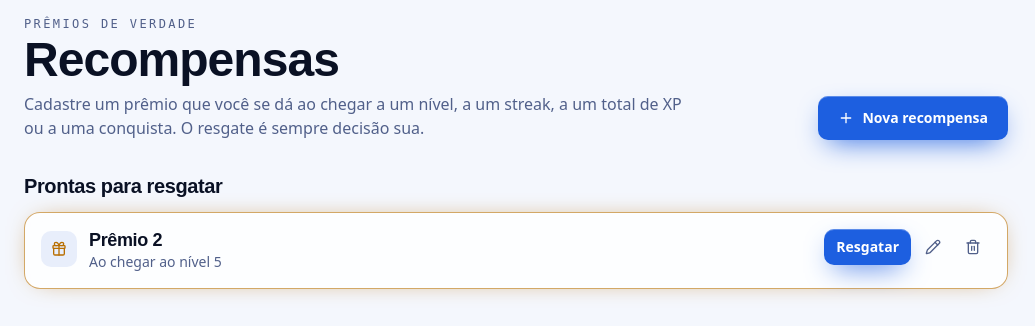
Test: RewardsPage › resgata e avisa
Click the button "Resgatar": (868, 247) [824, 229, 911, 265]
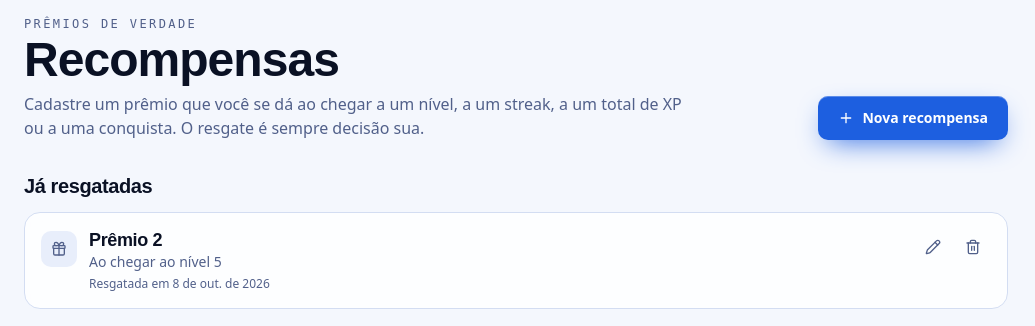
Check: the element "Já resgatadas" is shown, box [24, 172, 1008, 308]
